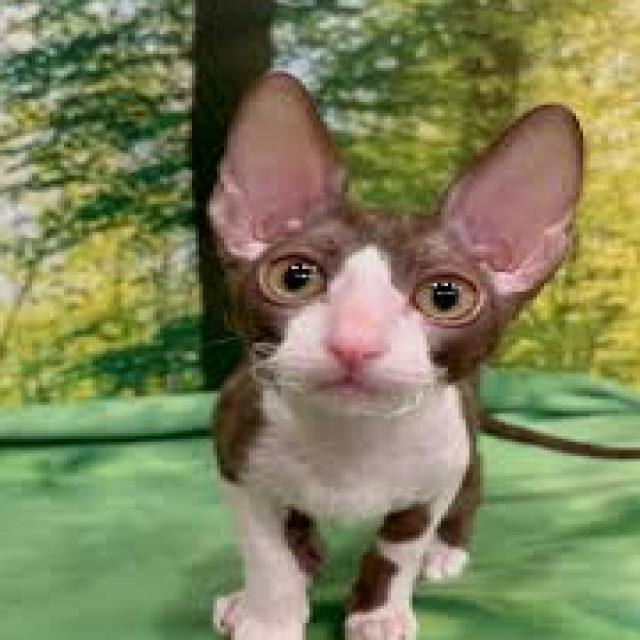Cornish Rex: (196, 65, 594, 640)
